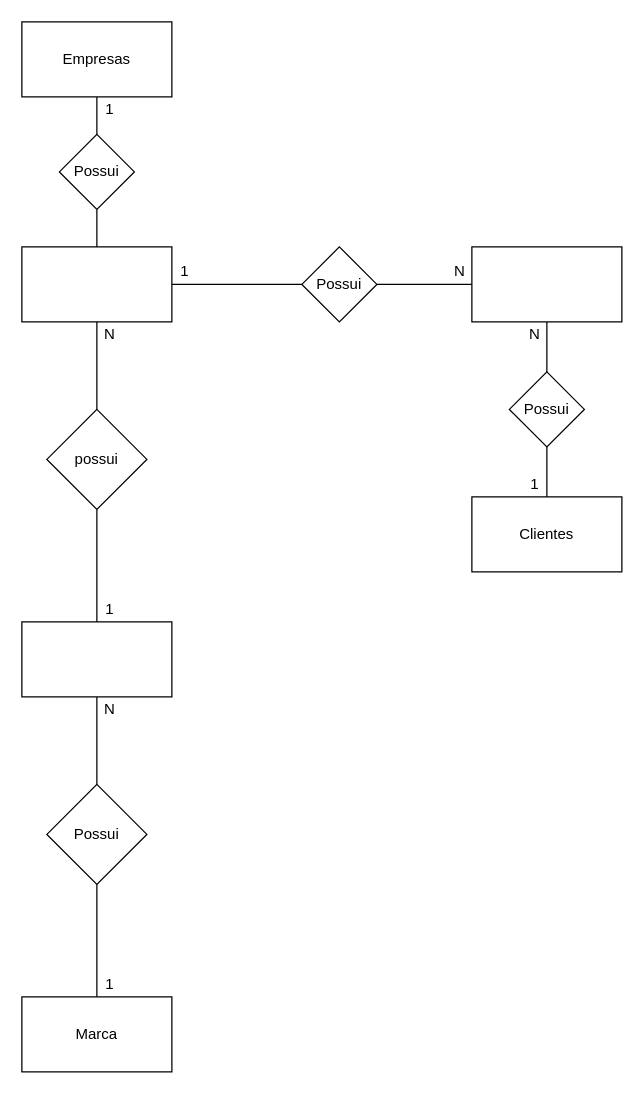
The diagram is 644 pixels wide and 1094 high, and some of its shapes have lost their labels. Each missing label, with the centre of its shape:
"Alugueis" belongs at pixel 546 284.
"Modelo" belongs at pixel 96 659.
"Veiculos" belongs at pixel 96 284.
